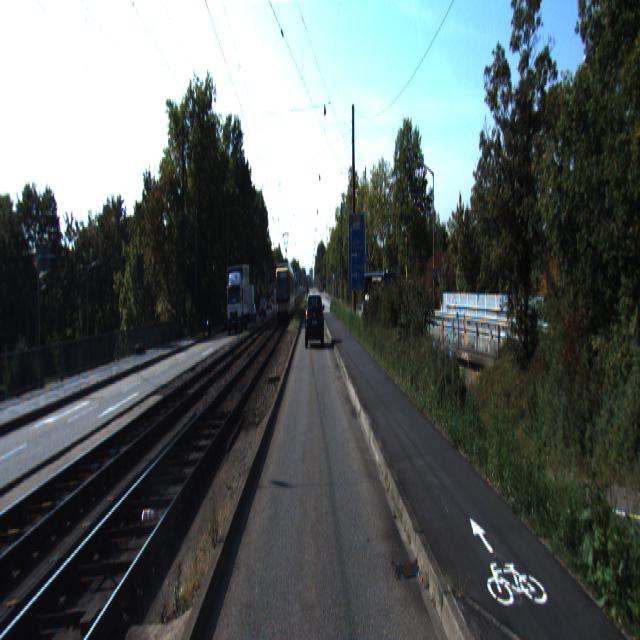Car: (360, 271, 398, 325), (225, 264, 250, 337), (306, 293, 323, 349)
